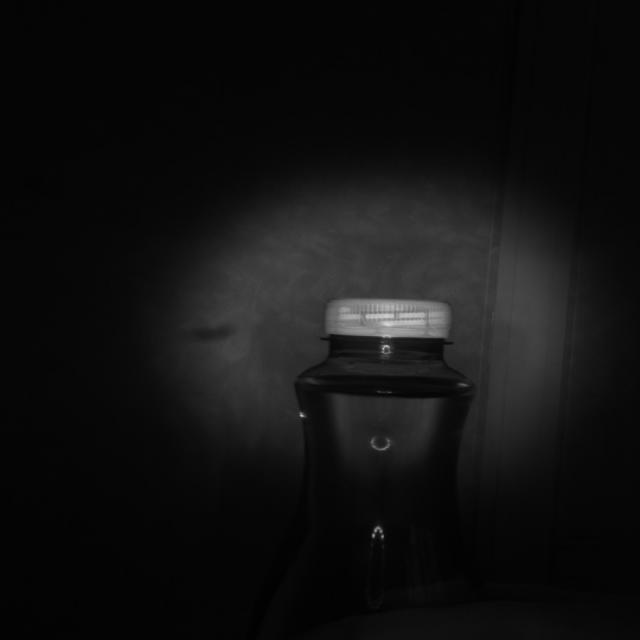Good: (324, 297, 452, 339)
